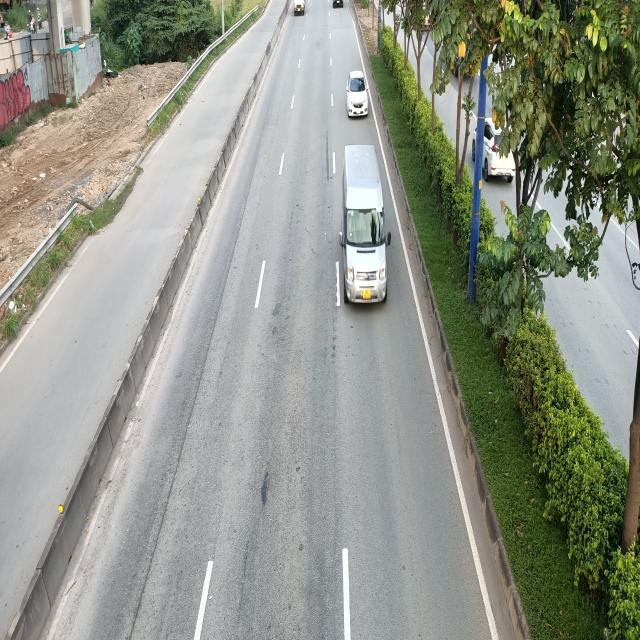car: (346, 72, 370, 120)
van: (339, 145, 391, 307)
